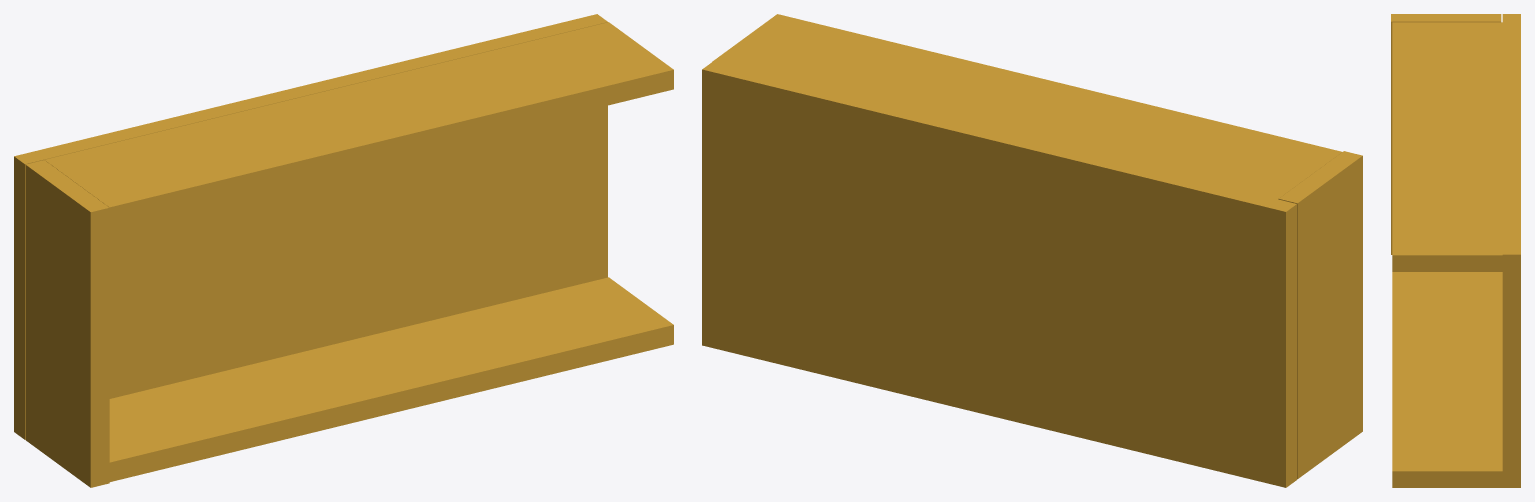
Rendered from case2.obj.
3 renders of one model, left to right at view 1: azimuth 30°, elevation 25°; view 2: azimuth 150°, elevation 25°; view 3: azimuth 270°, elevation 25°, orthographic. The views are drawn at different scales.
Visible parts, largest first — view 1: case_bottom_001, case_left_001, case_right_001, case_back_001; view 2: case_bottom_001, case_left_001, case_back_001; view 3: case_left_001, case_right_001, case_bottom_001, case_back_001.
Boxes of the visible parts, x1,y1,x2,y2 form: case_bottom_001: (14,14,607,439); case_left_001: (44,22,673,226); case_right_001: (109,277,673,481); case_back_001: (25,160,109,487); case_bottom_001: (702,61,1296,487); case_left_001: (712,14,1341,199); case_back_001: (1278,151,1362,479); case_left_001: (1392,22,1502,271); case_right_001: (1392,272,1502,487); case_bottom_001: (1502,14,1520,487); case_back_001: (1391,14,1501,254).
Size of the model in its own units: 0.1552 by 0.07 by 0.0353.
